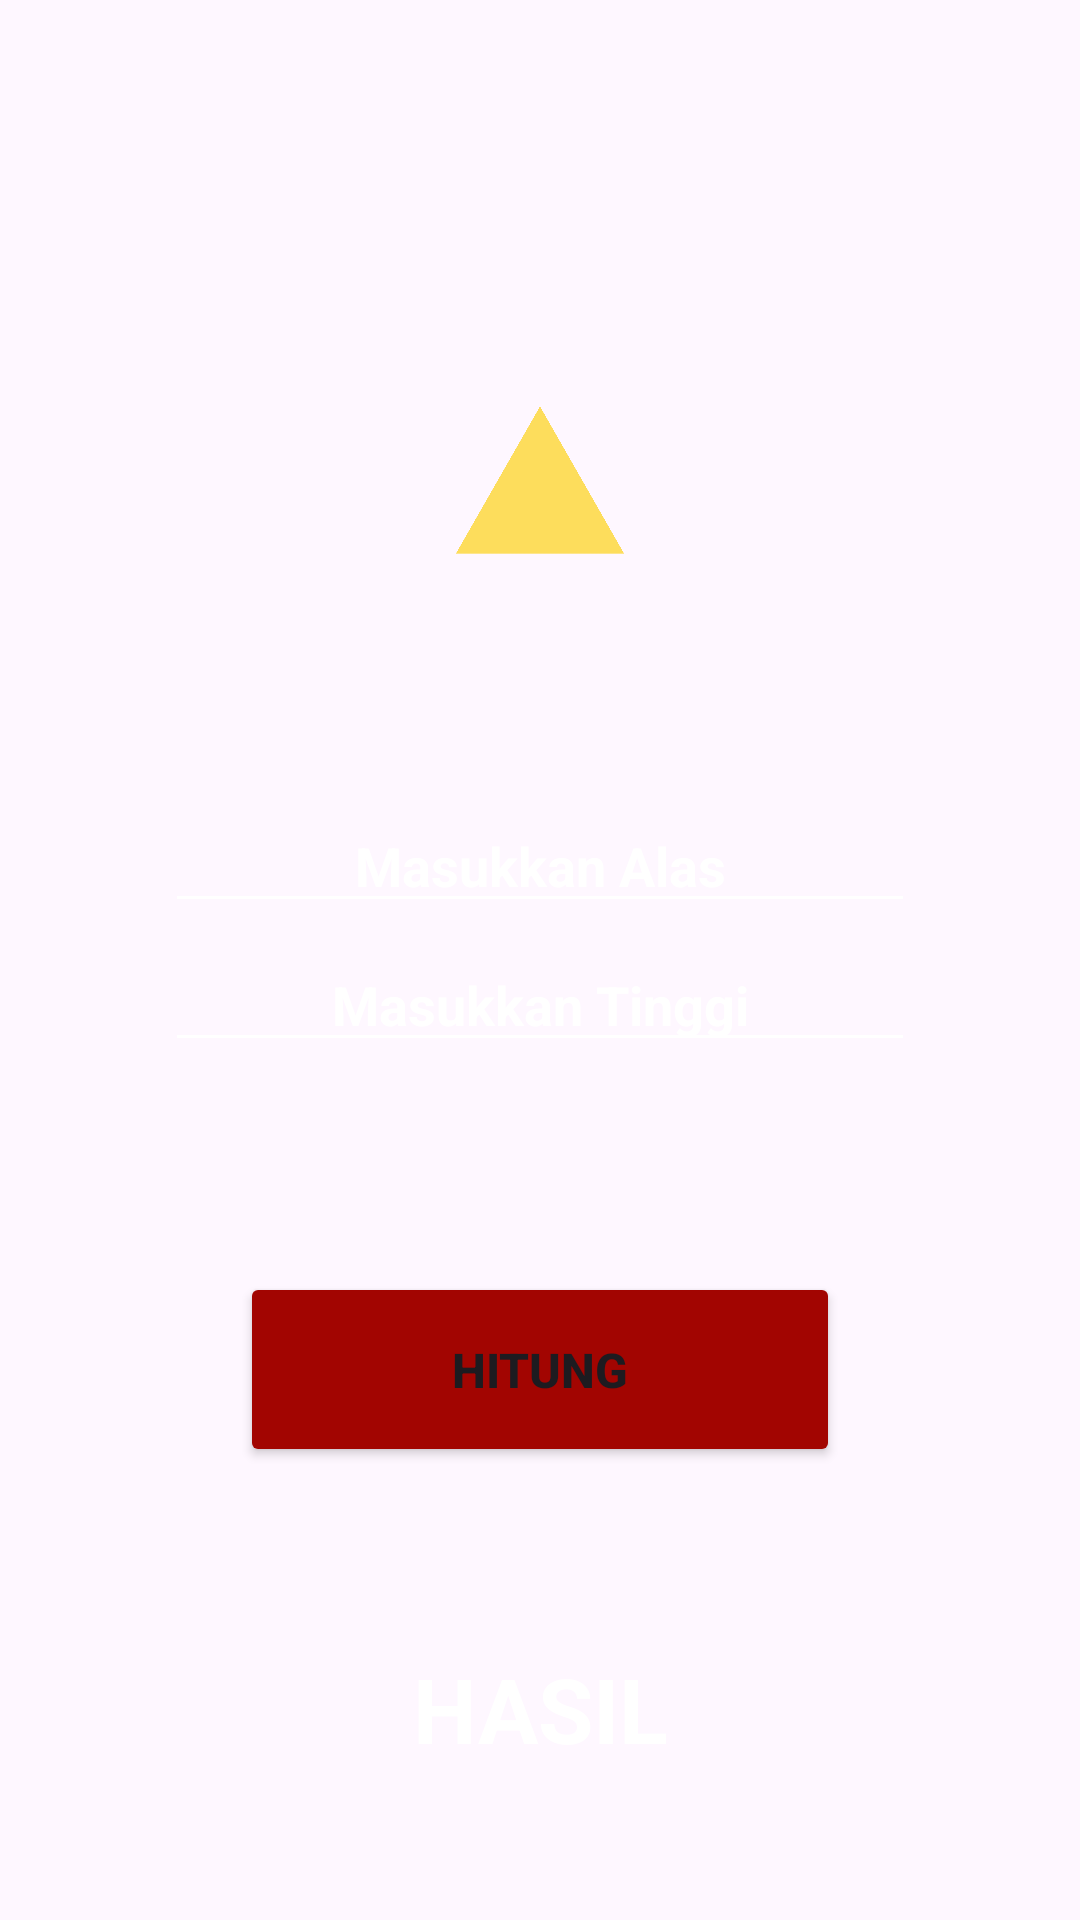

Point at icon controls on the screen. Image size 1080w x 1920h, points as point (x, y).
segitiga: point (540, 480)
